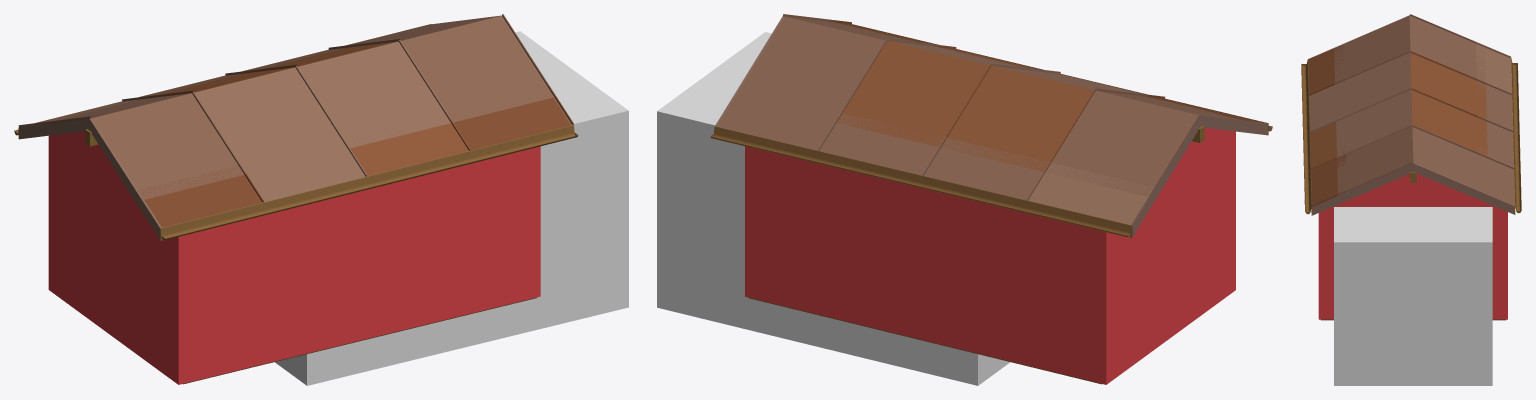
Rendered from casa4.fbx.
The picture shows the model from 3 angles, left to right: view 1: azimuth 30°, elevation 25°; view 2: azimuth 150°, elevation 25°; view 3: azimuth 270°, elevation 25°; orthographic projection. The views are drawn at different scales.
Visible parts, largest first — view 1: Cube, Roof, Cube.001; view 2: Cube, Roof, Cube.001; view 3: Roof, Cube.001, Cube.
Boxes of the visible parts, x1,y1,x2,y2 form: Cube: (48,131,540,384); Roof: (14,14,578,240); Cube.001: (275,31,628,385); Cube: (745,128,1235,384); Roof: (710,14,1272,237); Cube.001: (657,32,1010,385); Roof: (1301,14,1521,215); Cube.001: (1334,207,1492,385); Cube: (1318,173,1507,319).
Bounding box in the file's own units: 1794 × 951 × 959.
